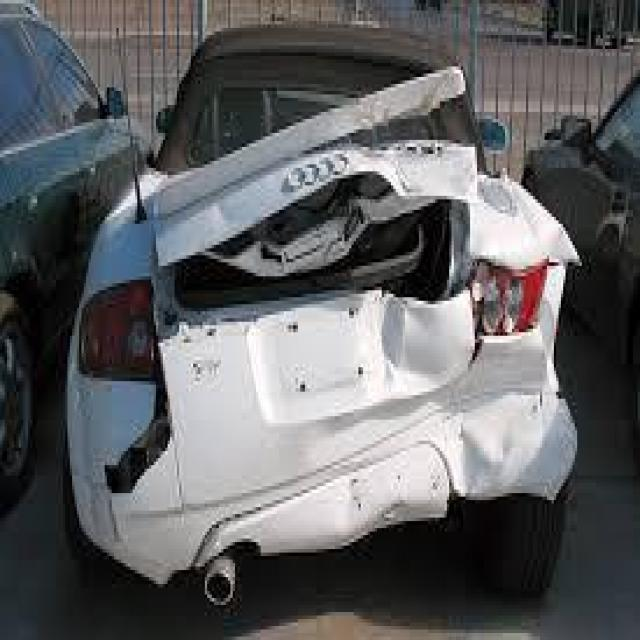damaged: (107, 70, 582, 525)
